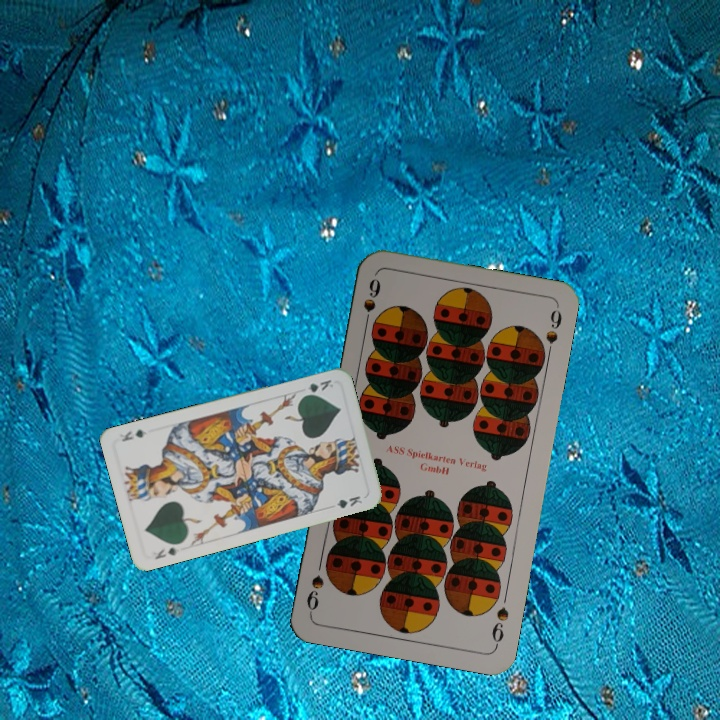GK: (298, 375, 336, 399), (151, 543, 180, 562)
S9: (359, 274, 384, 332), (488, 603, 511, 650)
